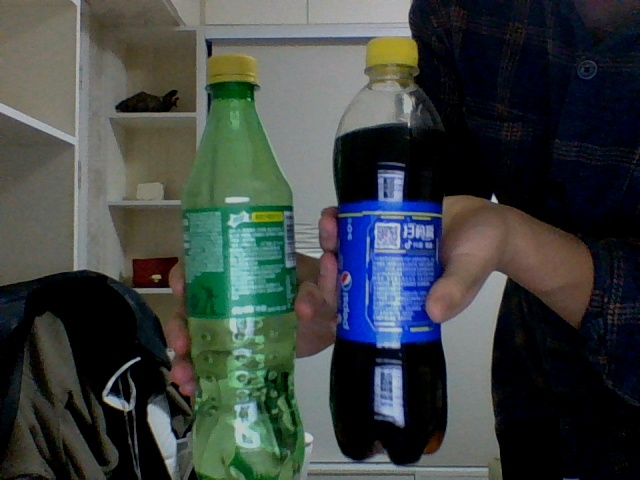Cola: (330, 38, 449, 460)
Sprite: (181, 54, 305, 476)
